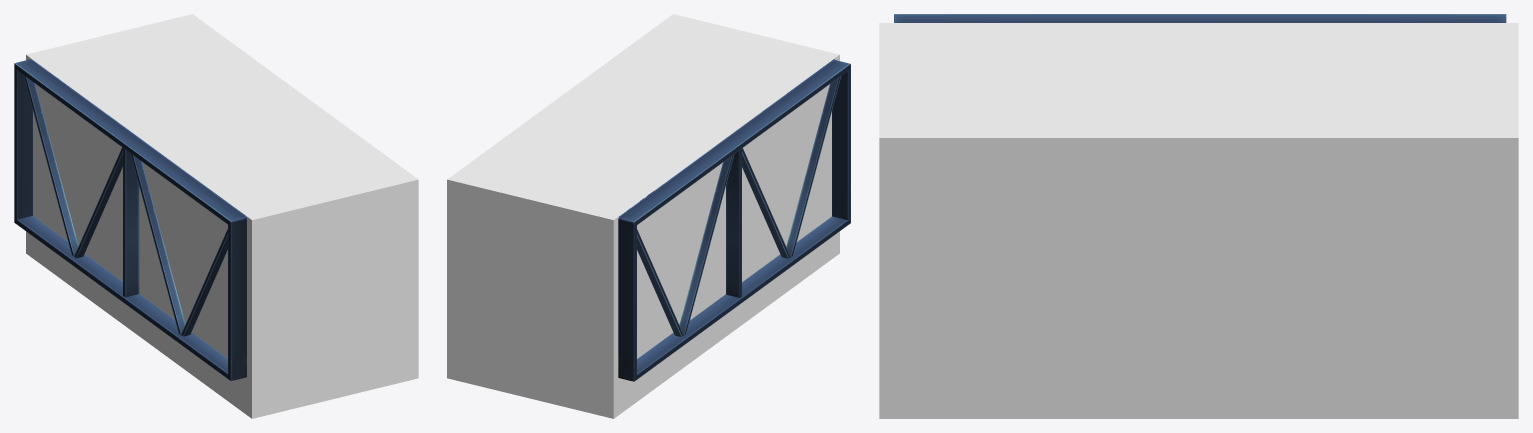
Rendered from my_millenniumlounge_01_window_02.glb.
3 views of the same model, side by side, from view 1: azimuth 30°, elevation 25°; view 2: azimuth 150°, elevation 25°; view 3: azimuth 270°, elevation 25° (orthographic). The views are drawn at different scales.
Visible parts, largest first — view 1: my_millenniumlounge_01_window_02_cover, my_millenniumlounge_01_window_02, my_millenniumlounge_01_window_02_hole; view 2: my_millenniumlounge_01_window_02_cover, my_millenniumlounge_01_window_02, my_millenniumlounge_01_window_02_hole; view 3: my_millenniumlounge_01_window_02_cover, my_millenniumlounge_01_window_02.
Boxes of the visible parts, box(x1,y1,x2,y2) form: my_millenniumlounge_01_window_02_cover: box(26, 14, 418, 418); my_millenniumlounge_01_window_02: box(14, 59, 246, 380); my_millenniumlounge_01_window_02_hole: box(33, 84, 227, 357); my_millenniumlounge_01_window_02_cover: box(447, 14, 839, 418); my_millenniumlounge_01_window_02: box(618, 60, 850, 381); my_millenniumlounge_01_window_02_hole: box(637, 84, 831, 358); my_millenniumlounge_01_window_02_cover: box(879, 23, 1518, 418); my_millenniumlounge_01_window_02: box(894, 14, 1506, 22).
Bounding box in the file's own units: 0.0111 × 0.0115 × 0.0238.
4 materials, 2 textured.
